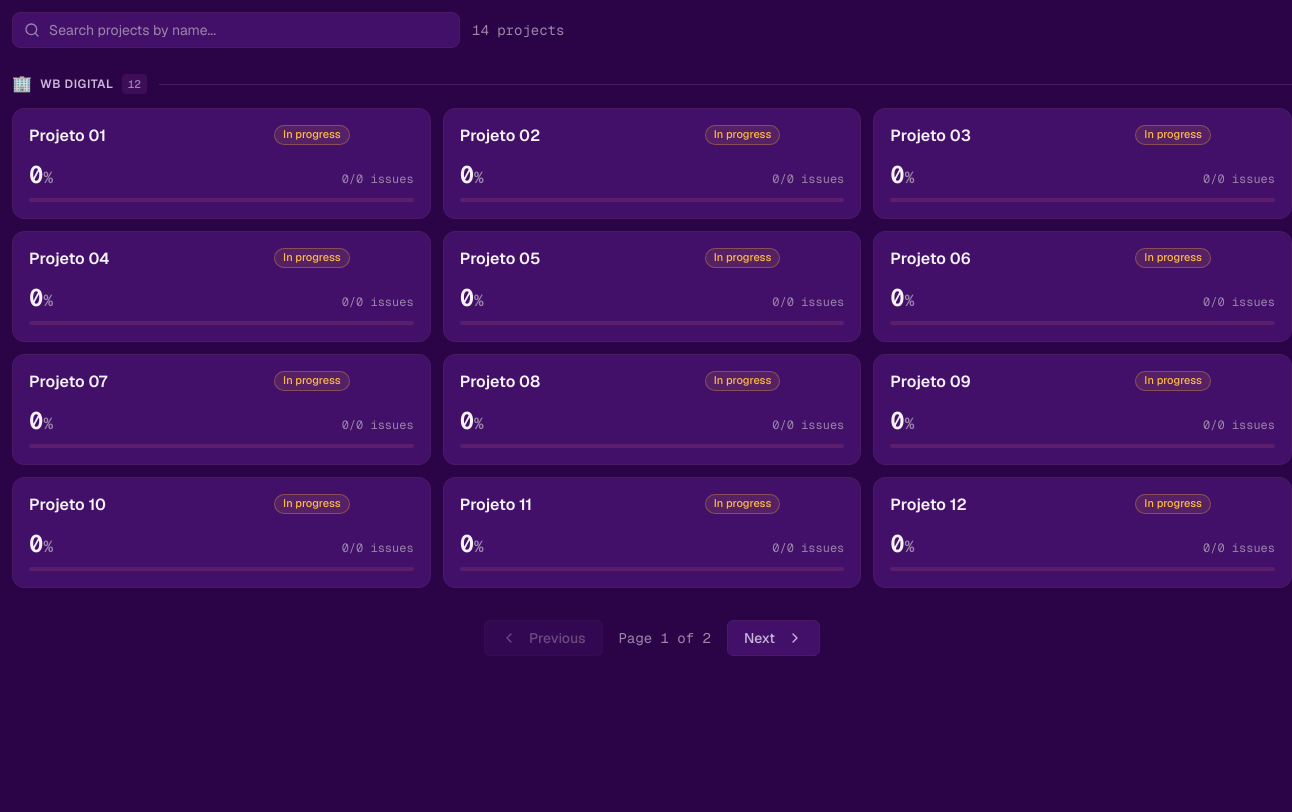
Test case: ProjectsListClient — paginação › busca volta para a página 1 e não deixa o usuário preso numa página que sumiu
Click the button "Next".
click(773, 638)  # box [727, 620, 820, 656]
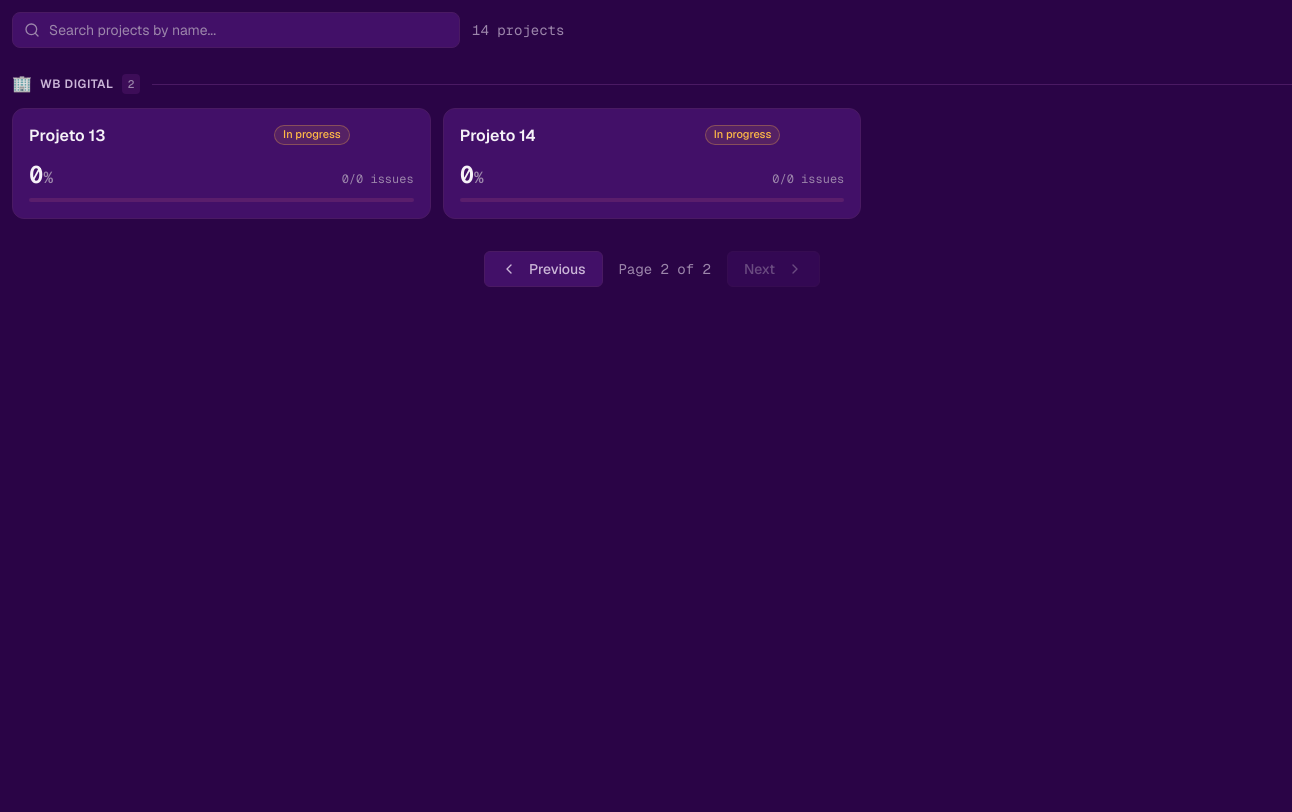
expect the text "Page 2 of 2" is shown: met, box [618, 259, 711, 279]
Type "Projeto 01" into the search field labelled "Search projects by name".
click(236, 30); type("Projeto 01")  # box [12, 12, 460, 48]
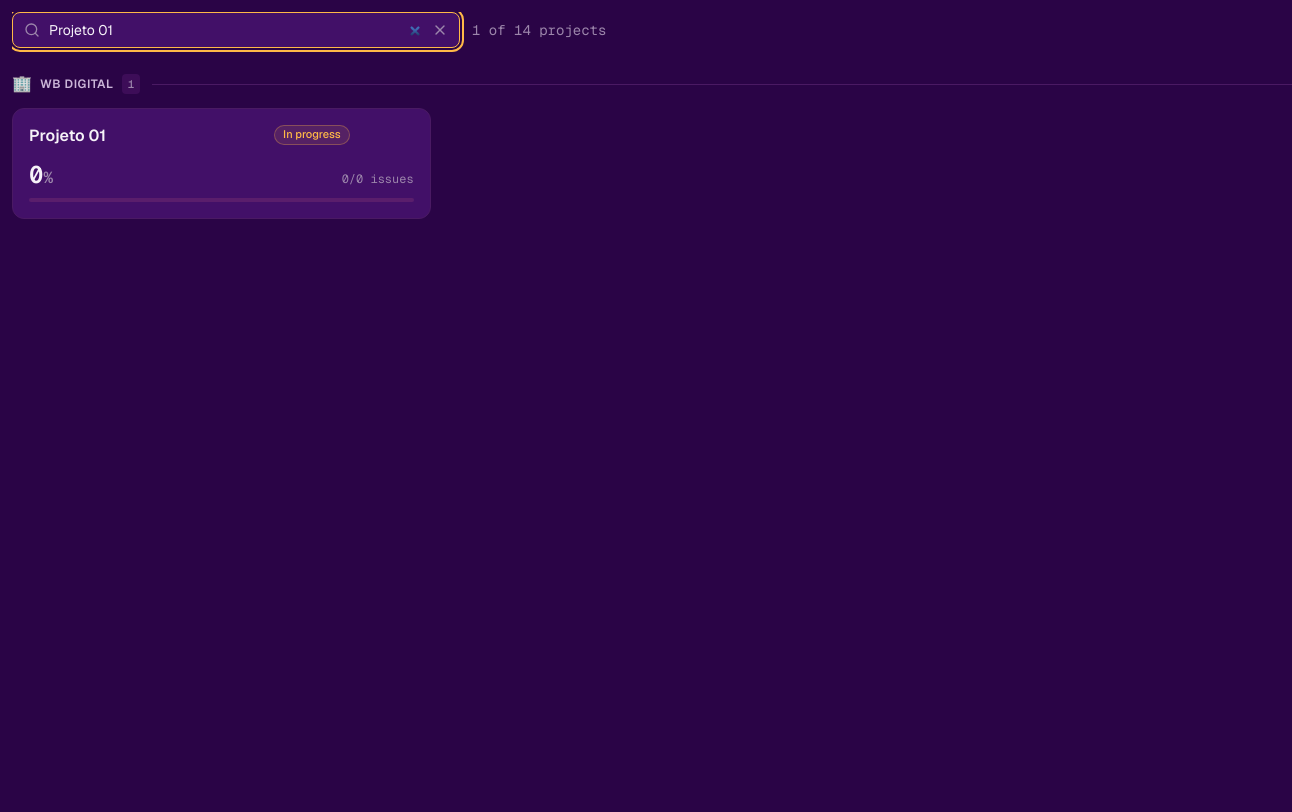
expect the heading "Projeto 01" is shown: met, box [29, 125, 106, 146]
